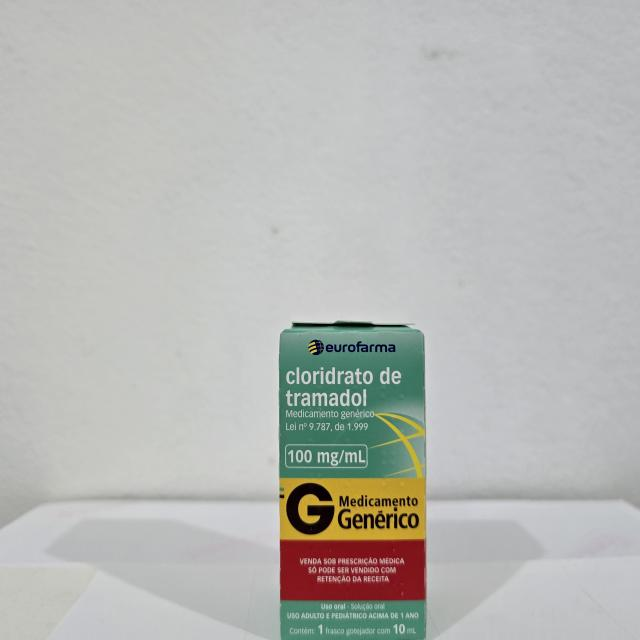tramadol: (274, 318, 433, 640)
